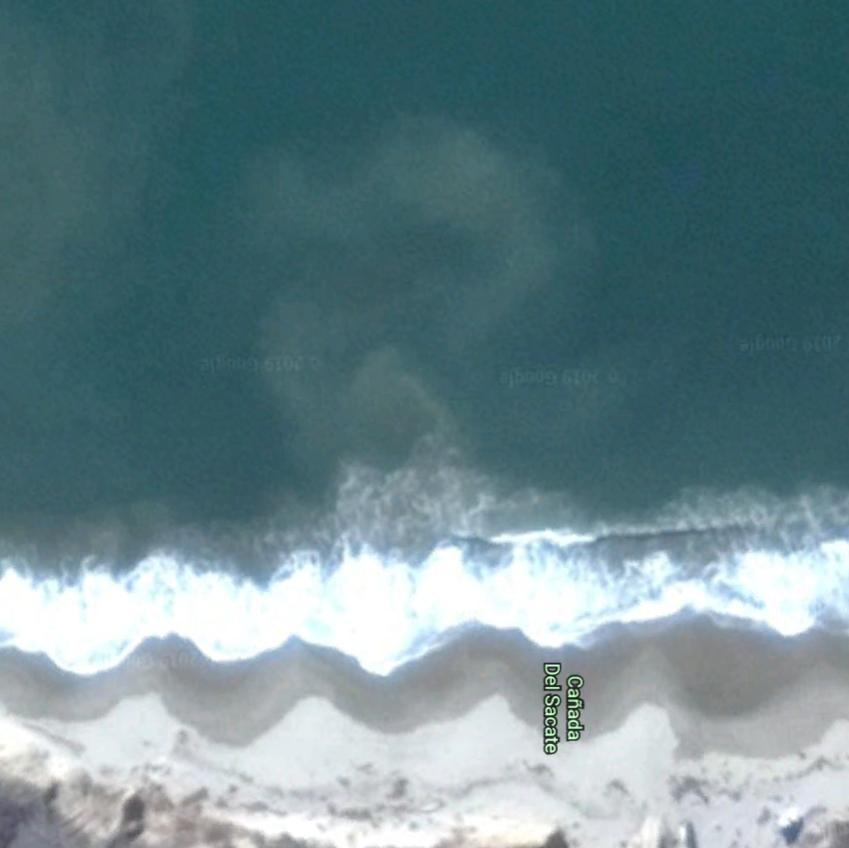rip_current: (237, 113, 540, 567)
